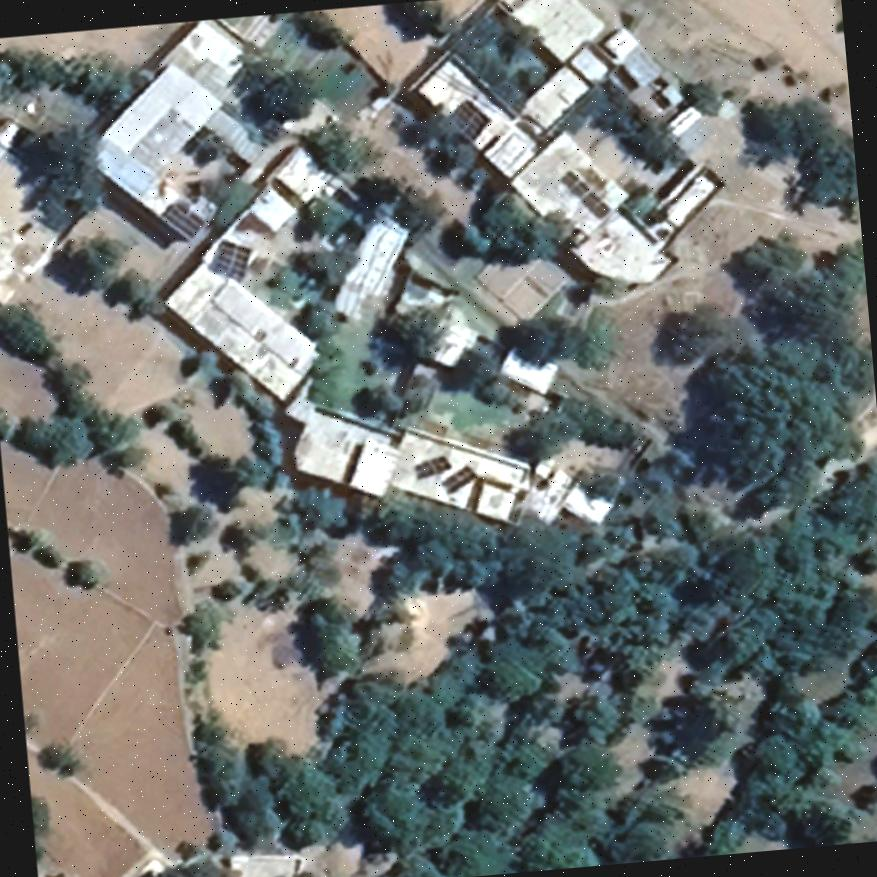Solarpanel: (159, 198, 206, 243), (447, 96, 490, 142), (211, 239, 253, 284), (439, 463, 478, 496), (411, 452, 452, 480)
